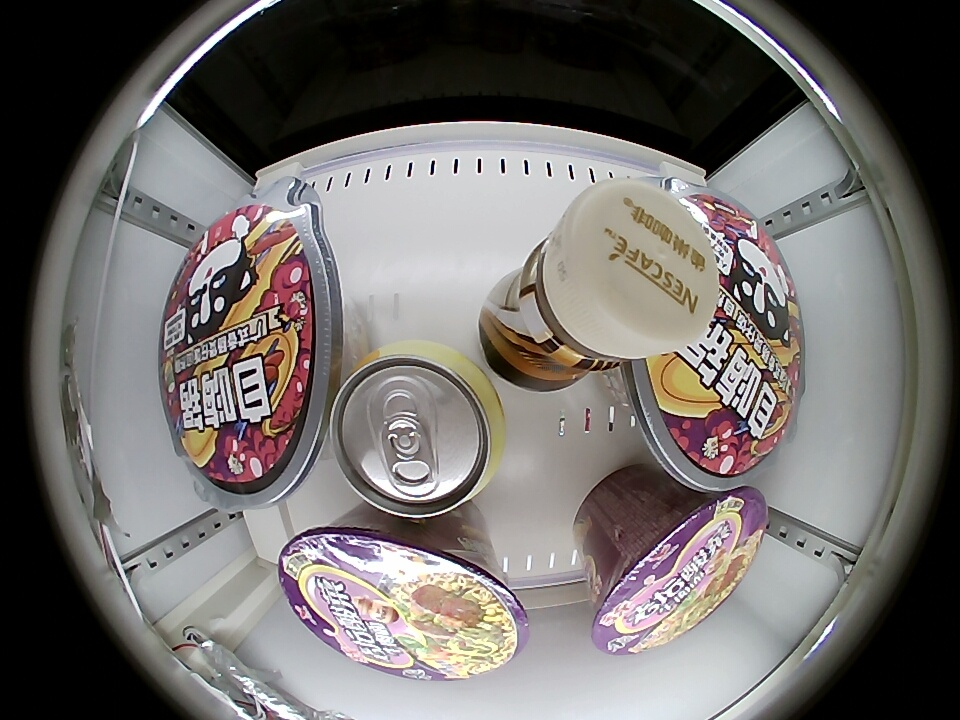kafei: (498, 183, 718, 391)
laotansuancai: (276, 525, 528, 681), (592, 488, 769, 656)
mangguoxiaolao: (331, 341, 504, 519)
zihaiguo: (163, 204, 317, 491), (645, 195, 798, 478)
